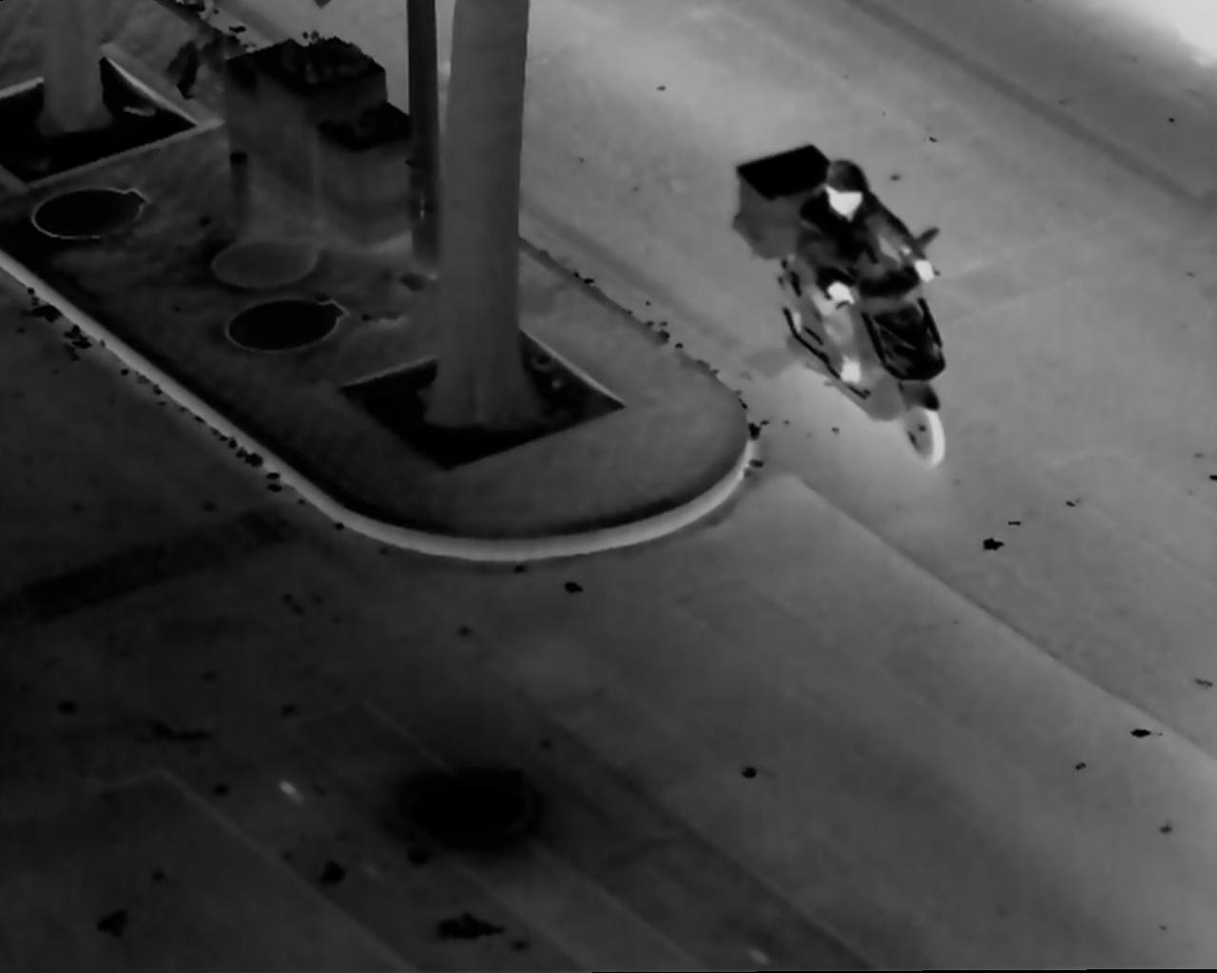person: (787, 161, 927, 386)
